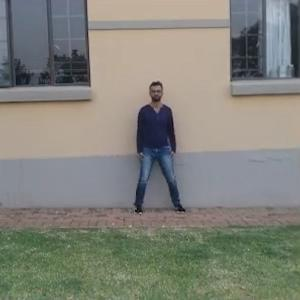follow: (135, 79, 175, 216)
